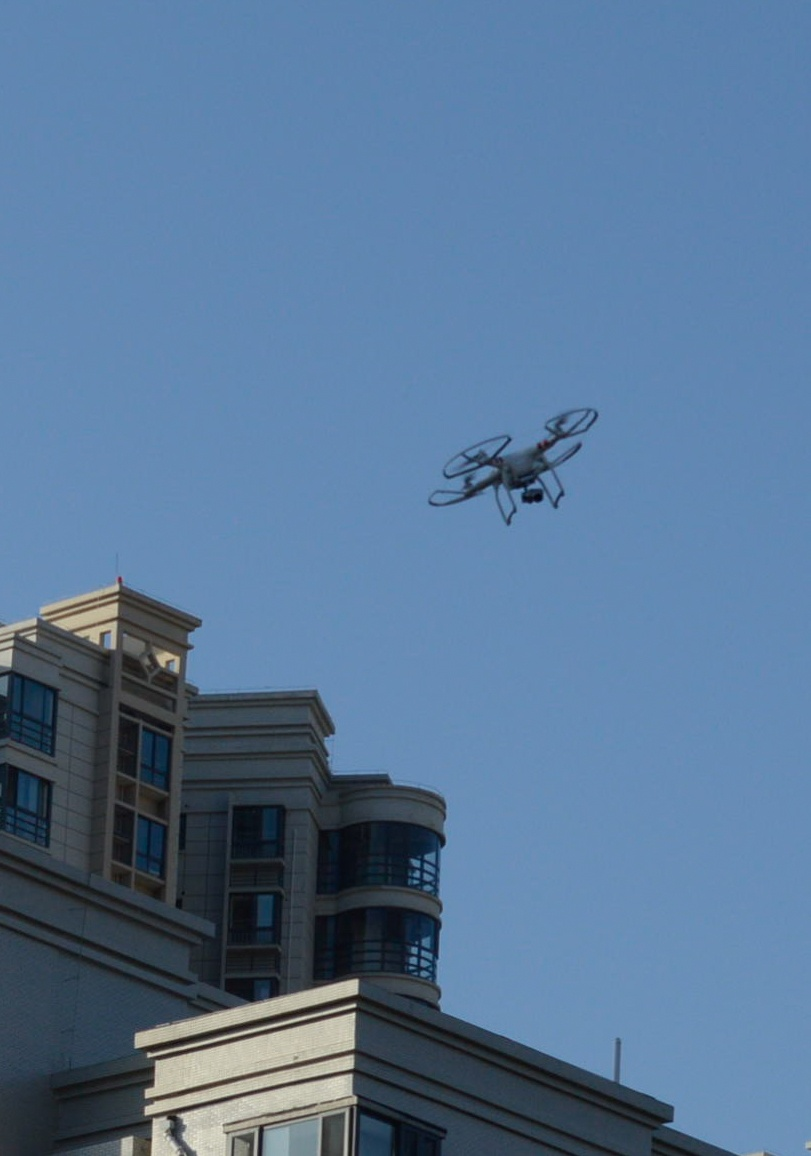DJI: (425, 401, 600, 528)
